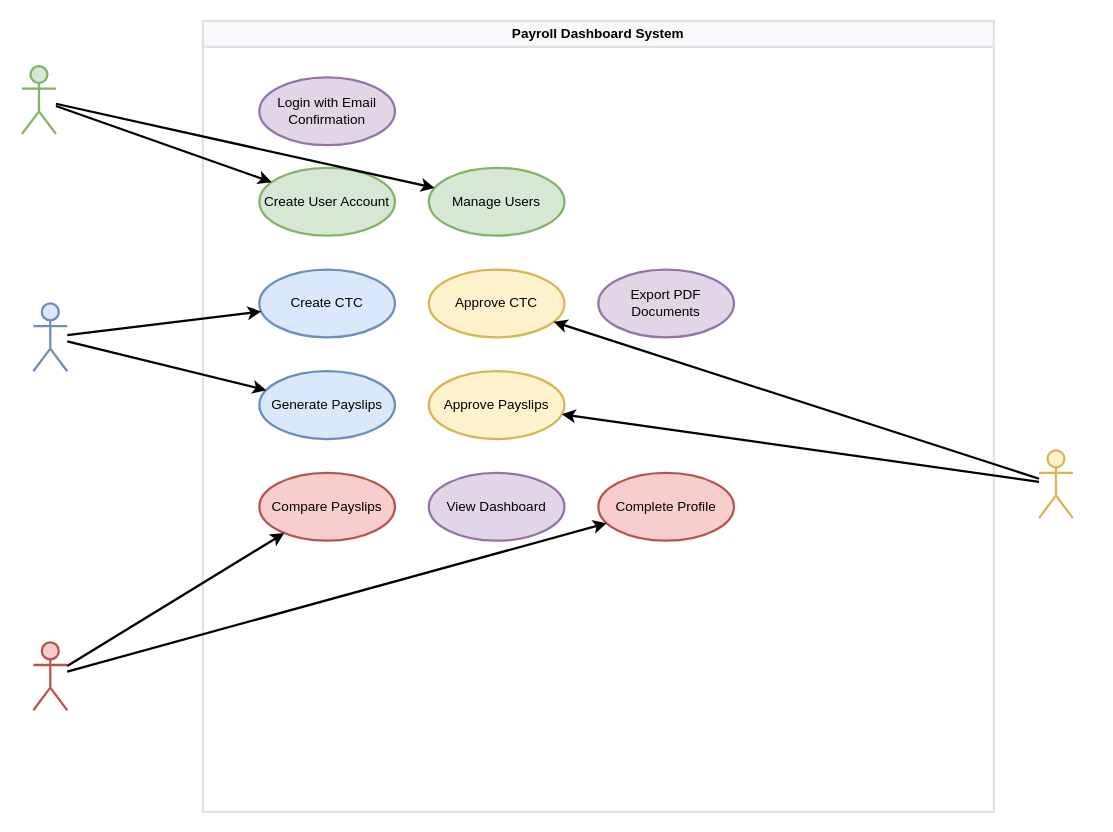
Image size: 1113x832. Some labels were removed from this diagram. The centre of each missing label's shape, as x and y in pixels:
"Admin" goes at point 38,99.
"Employee" goes at point 50,676.
"HR" goes at point 50,337.
"HR Manager" goes at point 1055,484.
